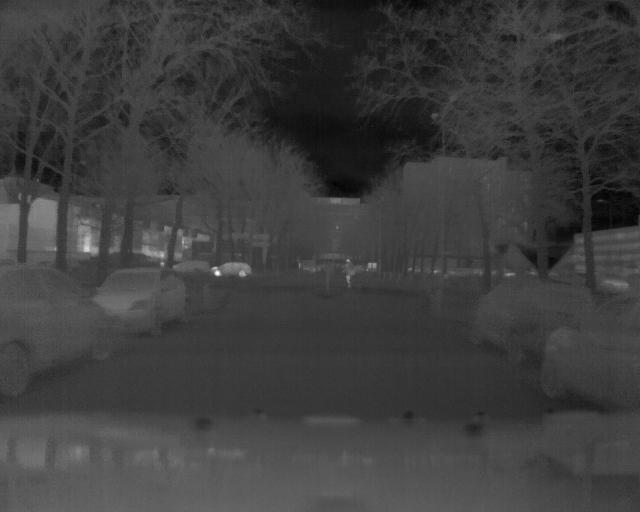car: (1, 259, 123, 399), (538, 285, 640, 406), (471, 268, 561, 355), (94, 268, 193, 335), (208, 259, 255, 280)
person: (340, 256, 359, 293)
